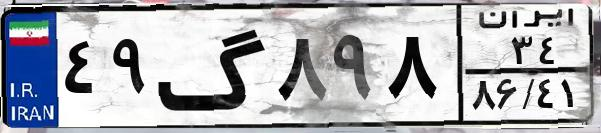1: (560, 70, 590, 125)
3: (508, 27, 537, 80)
4: (57, 26, 110, 100), (537, 27, 568, 80), (535, 70, 560, 125)
6: (495, 70, 520, 125)
8: (270, 28, 330, 110), (385, 28, 445, 110), (470, 70, 495, 125)
9: (330, 28, 385, 110), (110, 28, 156, 98)
گ: (156, 12, 270, 120)
